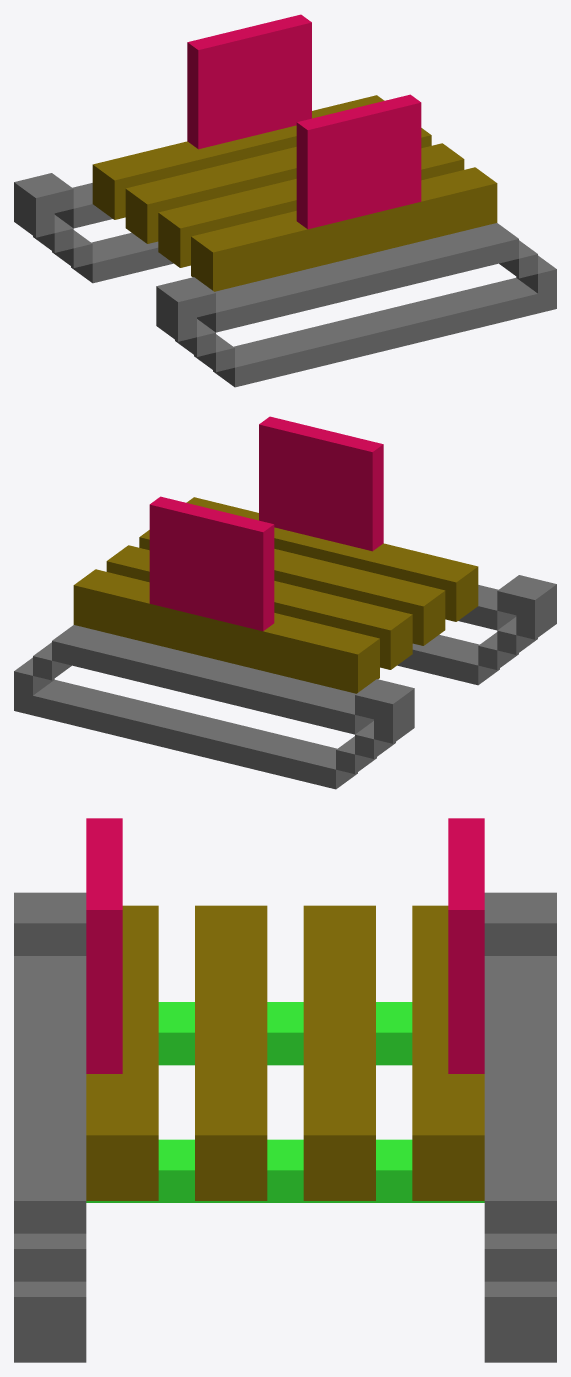
The model's file is Vehicle_30.fbx.
The picture shows the model from 3 angles, top to bottom: view 1: azimuth 30°, elevation 25°; view 2: azimuth 150°, elevation 25°; view 3: azimuth 270°, elevation 25°; orthographic projection. The views are drawn at different scales.
Visible parts, largest first — view 1: Vehicle_30; view 2: Vehicle_30; view 3: Vehicle_30.
Boxes of the visible parts, left/top/right/bottom form: Vehicle_30: left=14, top=14, right=556, bottom=387; Vehicle_30: left=14, top=416, right=556, bottom=789; Vehicle_30: left=14, top=818, right=556, bottom=1362.
Bounding box in the file's own units: 20 × 11 × 15.
Materials: 1 (1 with a texture image).
